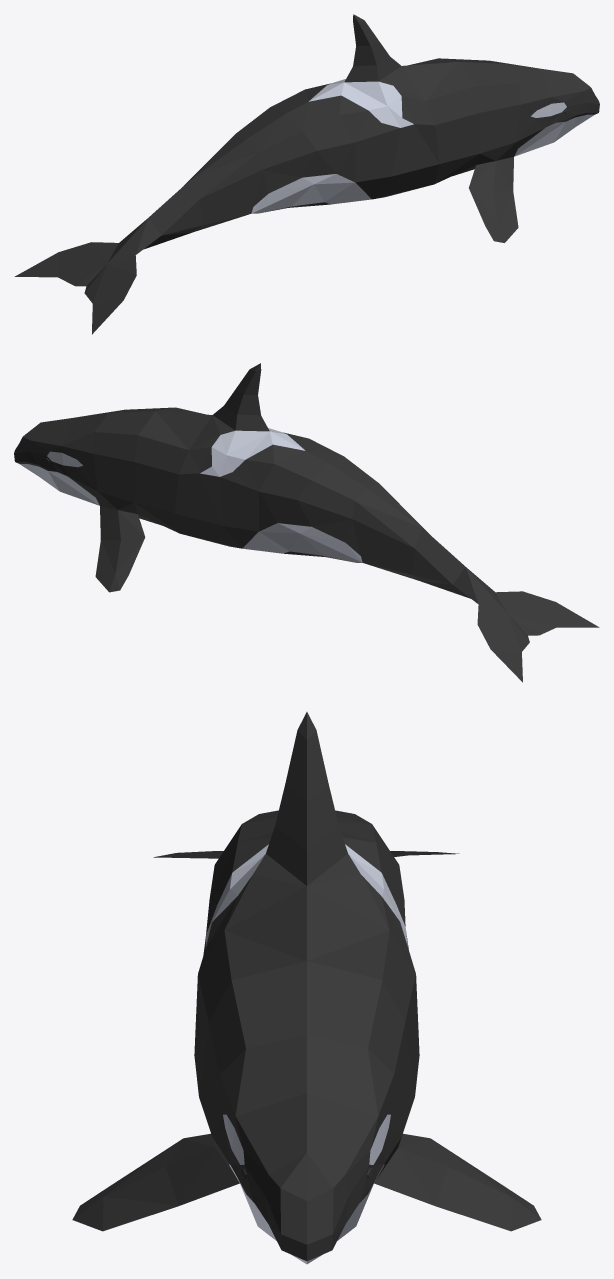
The model's file is Orca.fbx.
The picture shows the model from 3 angles, top to bottom: view 1: azimuth 30°, elevation 25°; view 2: azimuth 150°, elevation 25°; view 3: azimuth 270°, elevation 25°; orthographic projection. The views are drawn at different scales.
Parts seen in each view (by area): view 1: Orca; view 2: Orca; view 3: Orca.
Part boxes in pixels (x1,y1,x2,y2): Orca: (14, 14, 599, 334); Orca: (14, 363, 599, 682); Orca: (72, 712, 541, 1264).
Size of the model in its own units: 37.55 by 14.41 by 13.97.
